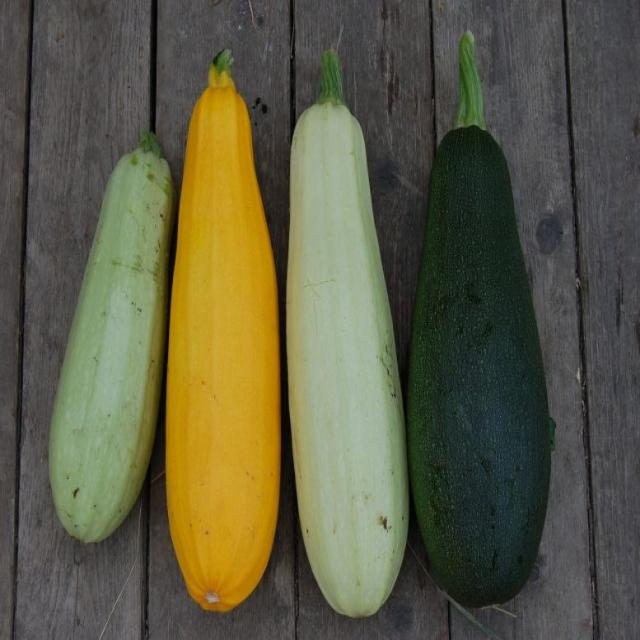Zucchini: (425, 133, 533, 596)
